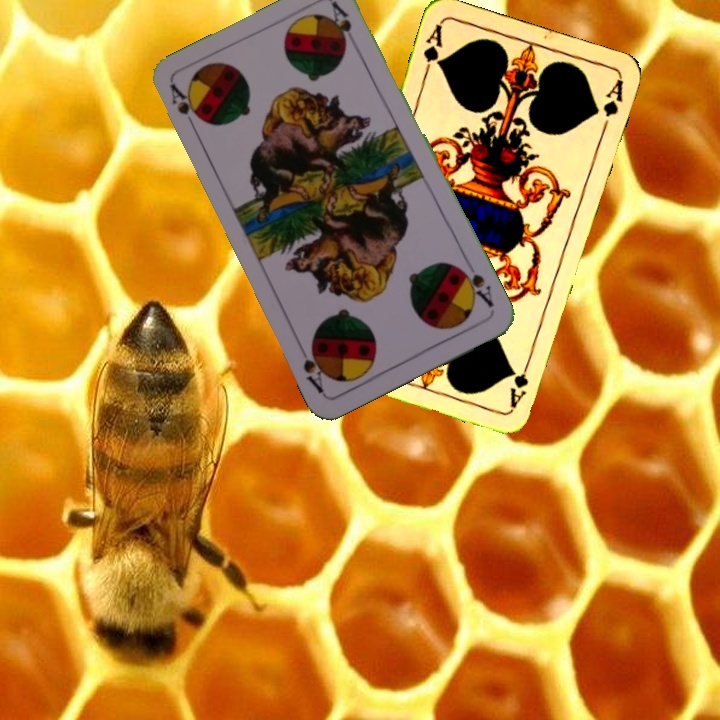GA: (506, 353, 534, 411), (419, 19, 445, 78)
SA: (454, 257, 497, 310), (166, 80, 202, 136)
